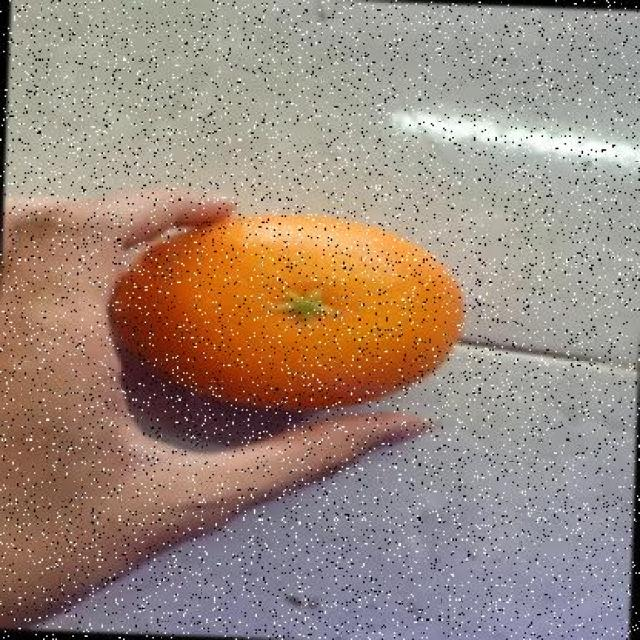Orange: (106, 209, 466, 411)
